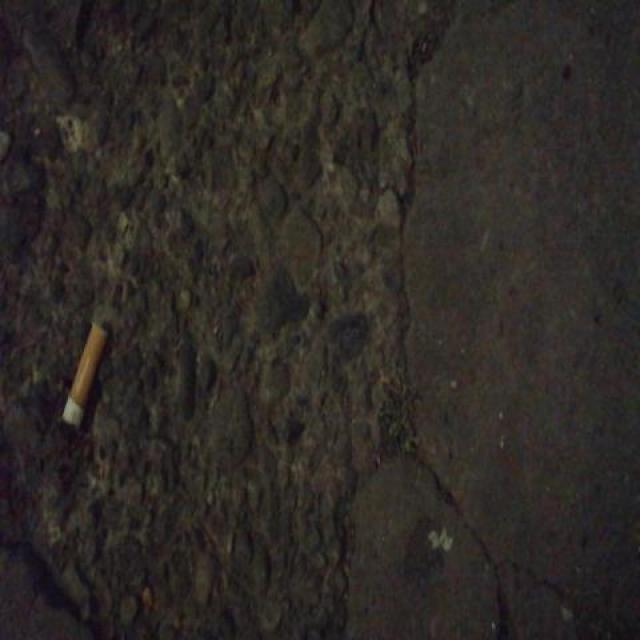non-organic waste: (56, 315, 112, 438)
